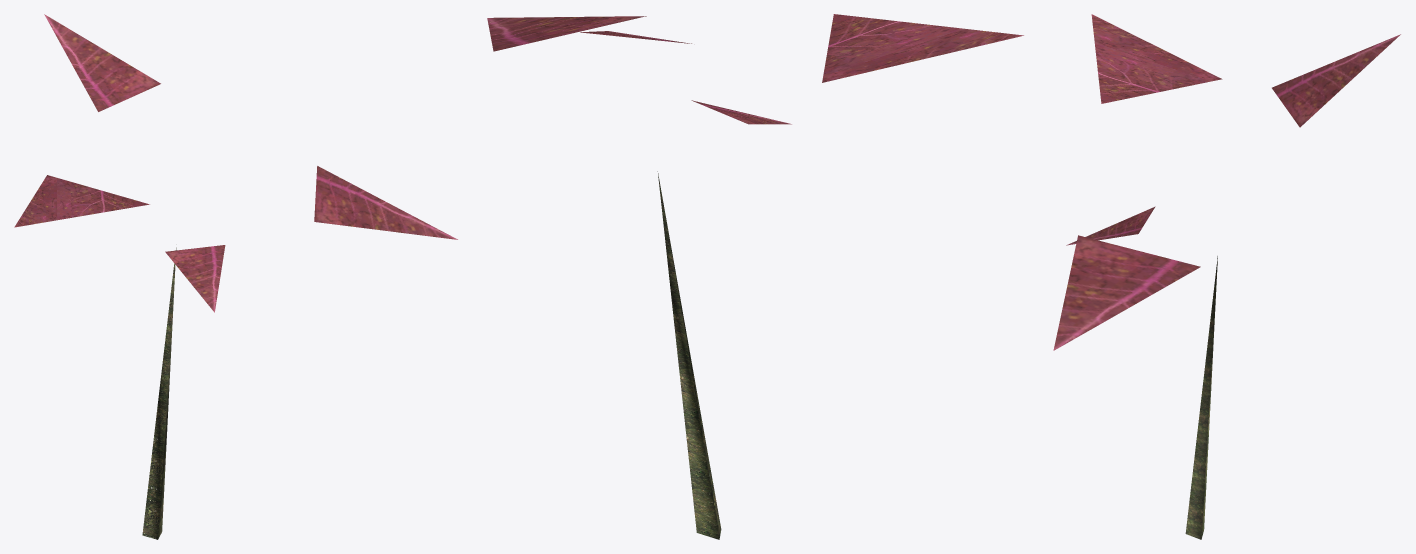
The model's file is leaf_smallflora_a2_l3.fbx.
The picture shows the model from 3 angles, left to right: view 1: azimuth 30°, elevation 25°; view 2: azimuth 150°, elevation 25°; view 3: azimuth 270°, elevation 25°; orthographic projection. The views are drawn at different scales.
Visible parts, largest first — view 1: mesh_node; view 2: mesh_node; view 3: mesh_node.
Boxes of the visible parts, box(x1,y1,x2,y2) form: mesh_node: box(14, 14, 457, 539); mesh_node: box(487, 14, 1023, 539); mesh_node: box(1053, 14, 1400, 539).
Bounding box in the file's own units: 1.18 × 1.2 × 0.769.
Materials: 2 (2 with a texture image).
